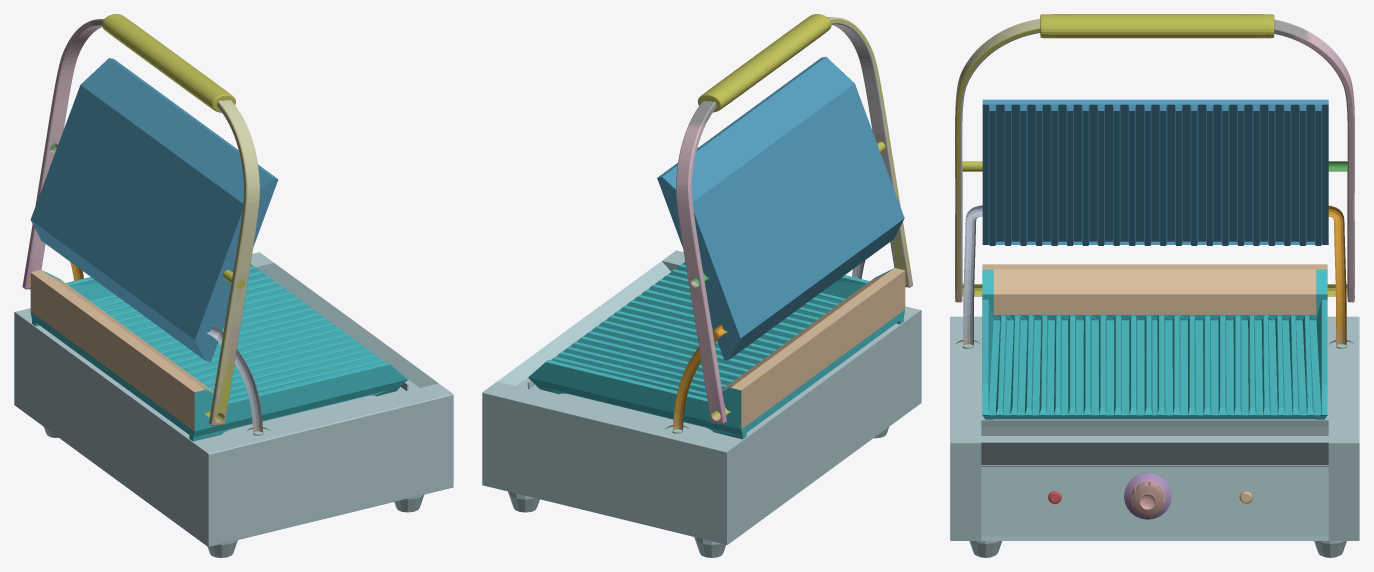
3 views of the same model, side by side, from view 1: azimuth 30°, elevation 25°; view 2: azimuth 150°, elevation 25°; view 3: azimuth 270°, elevation 25° (orthographic). The views are drawn at different scales.
Visible parts, largest first — view 1: world; view 2: world; view 3: world.
Boxes of the visible parts, x1,y1,x2,y2 form: world: (14, 14, 453, 557); world: (482, 14, 921, 557); world: (950, 14, 1359, 557).
Size of the model in its own units: 1.14 by 1.8 by 1.47.
